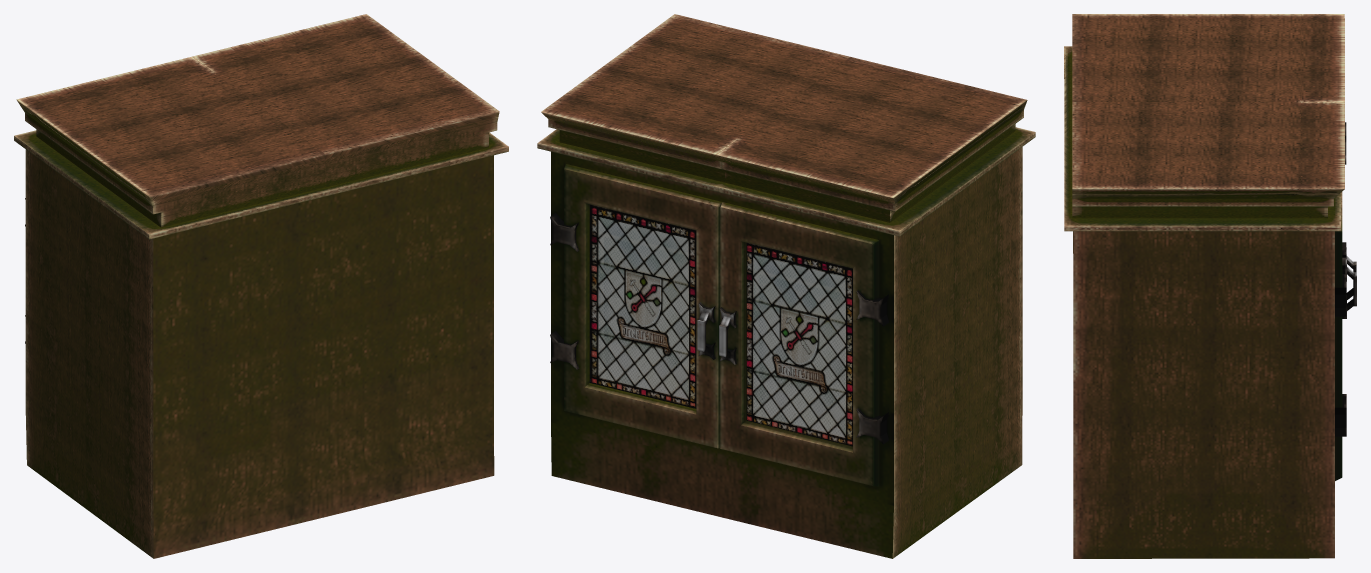
File: cabinetFDoubleSmall.fbx
The picture shows the model from 3 angles, left to right: view 1: azimuth 30°, elevation 25°; view 2: azimuth 150°, elevation 25°; view 3: azimuth 270°, elevation 25°; orthographic projection. The views are drawn at different scales.
Visible parts, largest first — view 1: cabinetFDoubleSmall; view 2: cabinetFDoubleSmall; view 3: cabinetFDoubleSmall.
Boxes of the visible parts, x1=… form: cabinetFDoubleSmall: x1=14, y1=14, x2=508, y2=558; cabinetFDoubleSmall: x1=537, y1=14, x2=1035, y2=558; cabinetFDoubleSmall: x1=1064, y1=14, x2=1356, y2=558.
Bounding box in the file's own units: 73.27 × 70.71 × 50.39.
